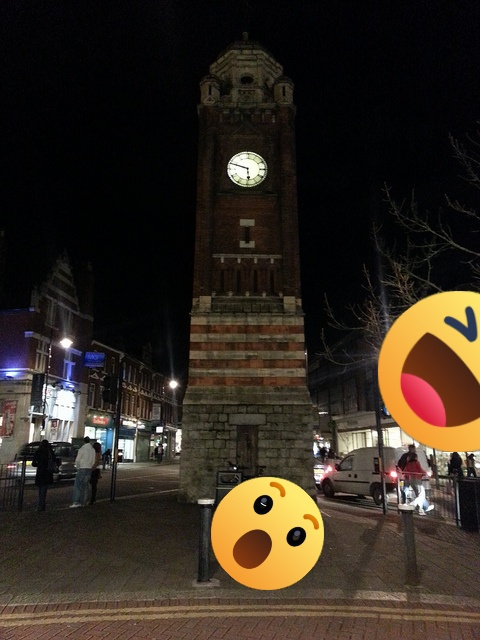haha: (378, 291, 480, 452)
wow: (211, 477, 324, 590)
